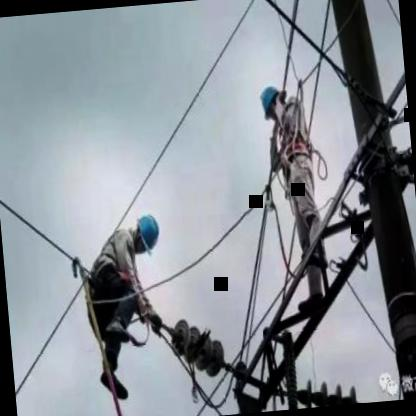helmet: (130, 208, 165, 255), (256, 78, 286, 126)
